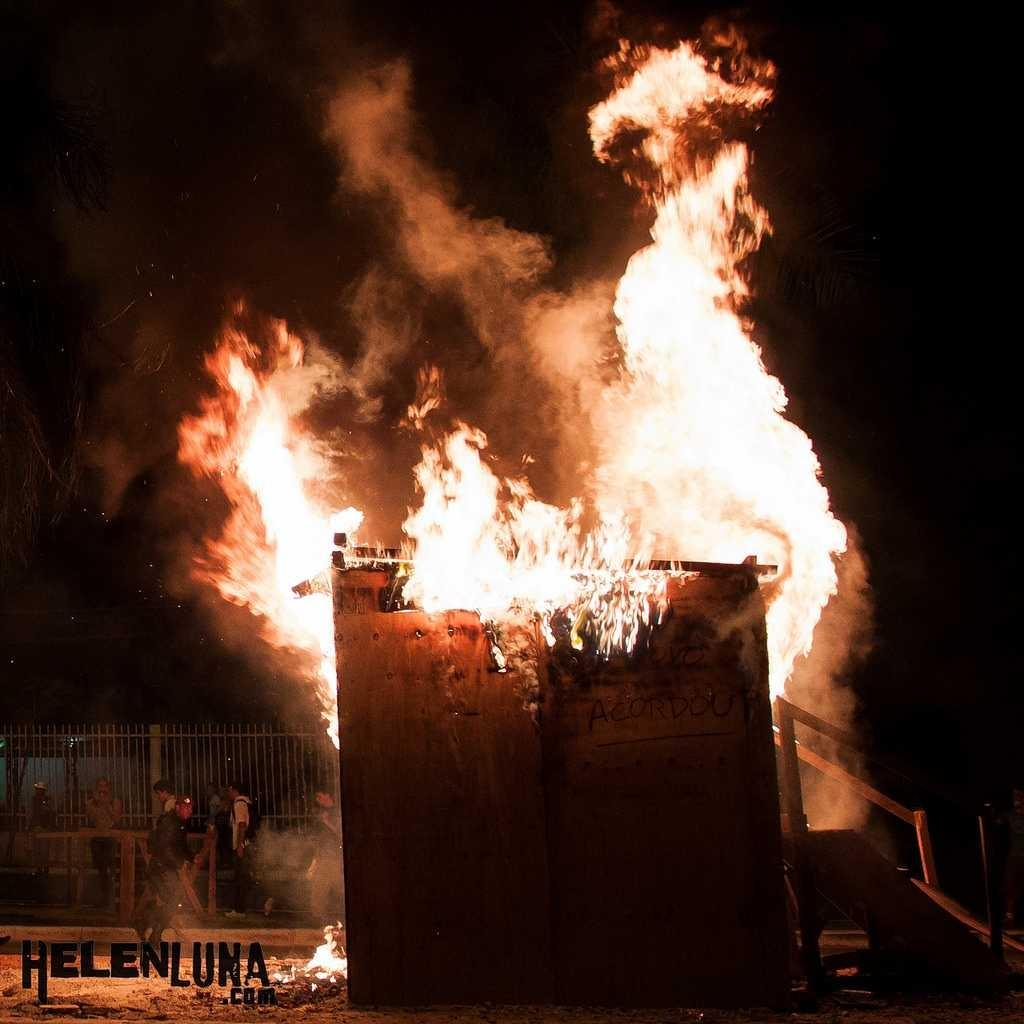fire: (622, 272, 750, 568), (425, 508, 598, 612), (248, 430, 328, 618)
